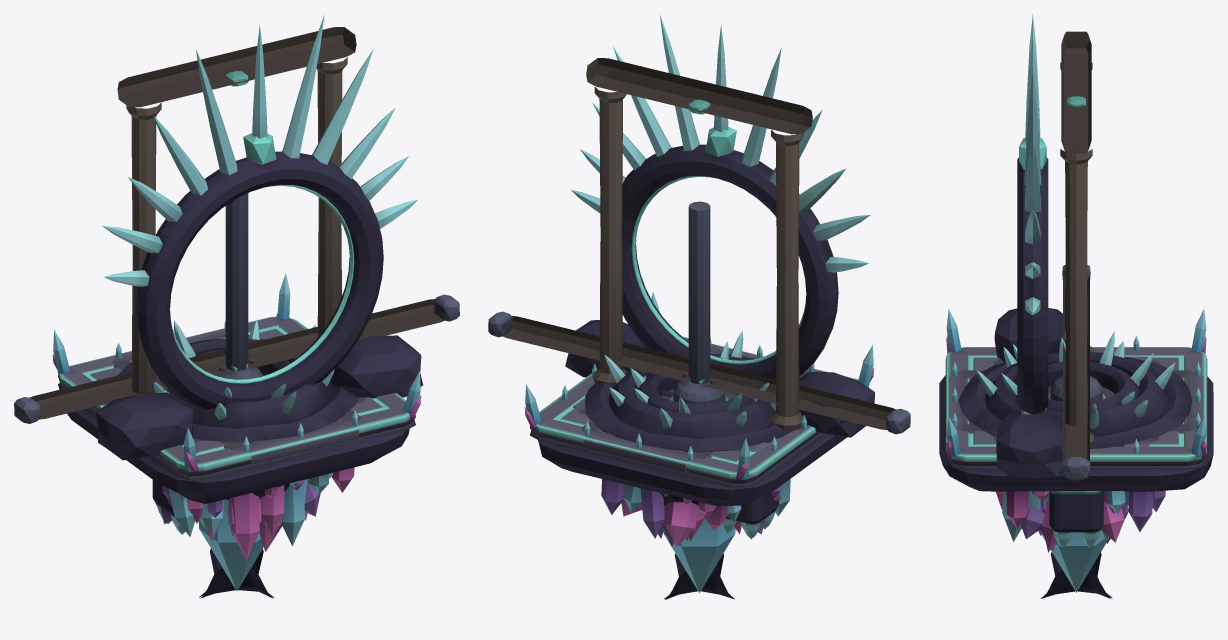
The model's file is caverns-1-DFyOMuqa.glb.
The picture shows the model from 3 angles, left to right: view 1: azimuth 30°, elevation 25°; view 2: azimuth 150°, elevation 25°; view 3: azimuth 270°, elevation 25°; orthographic projection. The views are drawn at different scales.
Parts seen in each view (by area): view 1: portal_#0, pad_12x2x12#0, pressFrame_7.5x6x2.5x7#0, mount_10.6#0, geyserVent_6#0, press_7.5x6x2.5#0, block_7x2x12#0, disc_10x1.5#0, block_7x2x8#0, block_8x2x7#0, block_10x2x8#0, block_8x2x10#0 (+3 smaller); view 2: portal_#0, pressFrame_7.5x6x2.5x7#0, pad_12x2x12#0, geyserVent_6#0, mount_10.6#0, press_7.5x6x2.5#0, disc_10x1.5#0, block_7x2x12#0, geyserVent_3.9#0, barHub_7.2x1.2#0, block_8x2x10#0, block_7x2x8#0 (+1 smaller); view 3: pad_12x2x12#0, portal_#0, pressFrame_7.5x6x2.5x7#0, geyserVent_6#0, geyserVent_3.9#0, disc_10x1.5#0, press_7.5x6x2.5#0, mount_10.6#0, block_7x2x12#0, block_10x2x8#0, support_1_round#0, block_7x2x8#0 (+3 smaller).
Part boxes in pixels (<box>): portal_#0: <box>96,14,422,460</box>; pad_12x2x12#0: <box>52,273,421,535</box>; pressFrame_7.5x6x2.5x7#0: <box>117,27,356,393</box>; mount_10.6#0: <box>14,294,459,423</box>; geyserVent_6#0: <box>117,319,357,442</box>; press_7.5x6x2.5#0: <box>152,193,248,534</box>; block_7x2x12#0: <box>112,328,361,551</box>; disc_10x1.5#0: <box>160,483,320,590</box>; block_7x2x8#0: <box>229,480,304,560</box>; block_8x2x7#0: <box>282,481,307,545</box>; block_10x2x8#0: <box>162,397,365,523</box>; block_8x2x10#0: <box>224,417,342,535</box>; portal_#0: <box>565,15,874,437</box>; pressFrame_7.5x6x2.5x7#0: <box>586,58,812,430</box>; pad_12x2x12#0: <box>524,291,874,530</box>; geyserVent_6#0: <box>585,330,800,452</box>; mount_10.6#0: <box>488,311,910,434</box>; press_7.5x6x2.5#0: <box>688,201,778,539</box>; disc_10x1.5#0: <box>621,499,765,592</box>; block_7x2x12#0: <box>581,344,814,505</box>; geyserVent_3.9#0: <box>618,341,772,421</box>; barHub_7.2x1.2#0: <box>662,375,728,404</box>; block_8x2x10#0: <box>599,428,715,538</box>; block_7x2x8#0: <box>601,479,641,514</box>; pad_12x2x12#0: <box>939,309,1213,491</box>; portal_#0: <box>994,14,1066,478</box>; pressFrame_7.5x6x2.5x7#0: <box>1060,31,1093,446</box>; geyserVent_6#0: <box>958,330,1192,448</box>; geyserVent_3.9#0: <box>1001,331,1156,420</box>; disc_10x1.5#0: <box>1020,501,1124,592</box>; press_7.5x6x2.5#0: <box>1049,491,1103,547</box>; mount_10.6#0: <box>1062,265,1090,480</box>; block_7x2x12#0: <box>945,370,1207,551</box>; block_10x2x8#0: <box>993,356,1159,528</box>; support_1_round#0: <box>1041,553,1112,598</box>; block_7x2x8#0: <box>1038,491,1153,535</box>.
Size of the model in its own units: 22.1 by 29.02 by 12.59.
